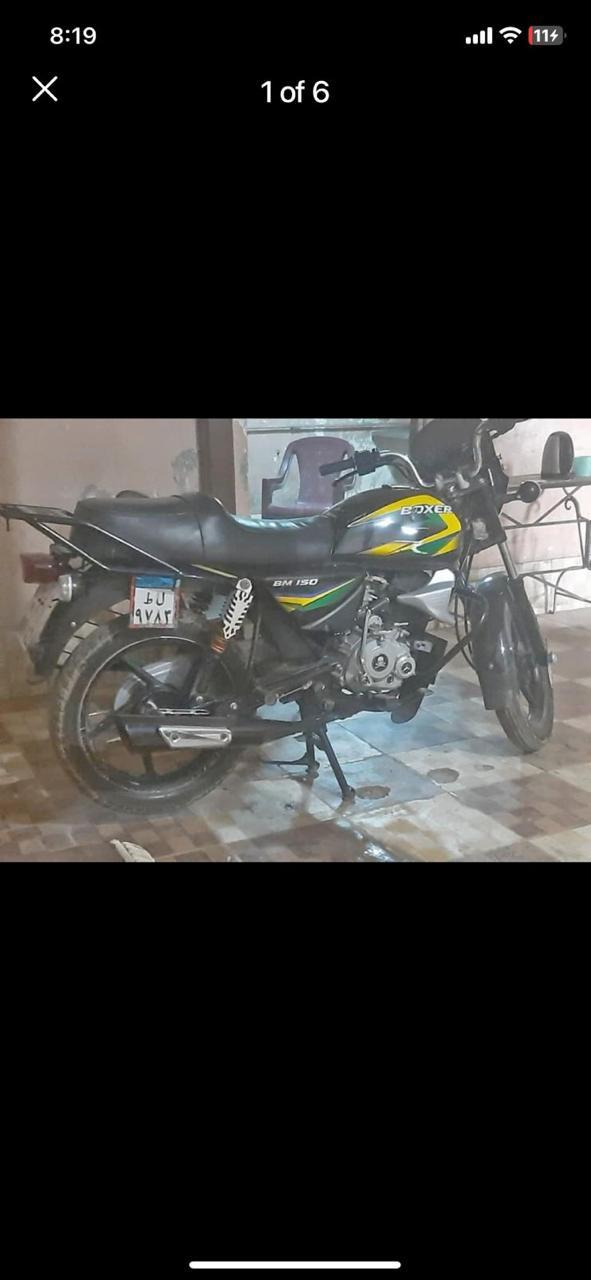License Plate: (132, 577, 177, 628)
